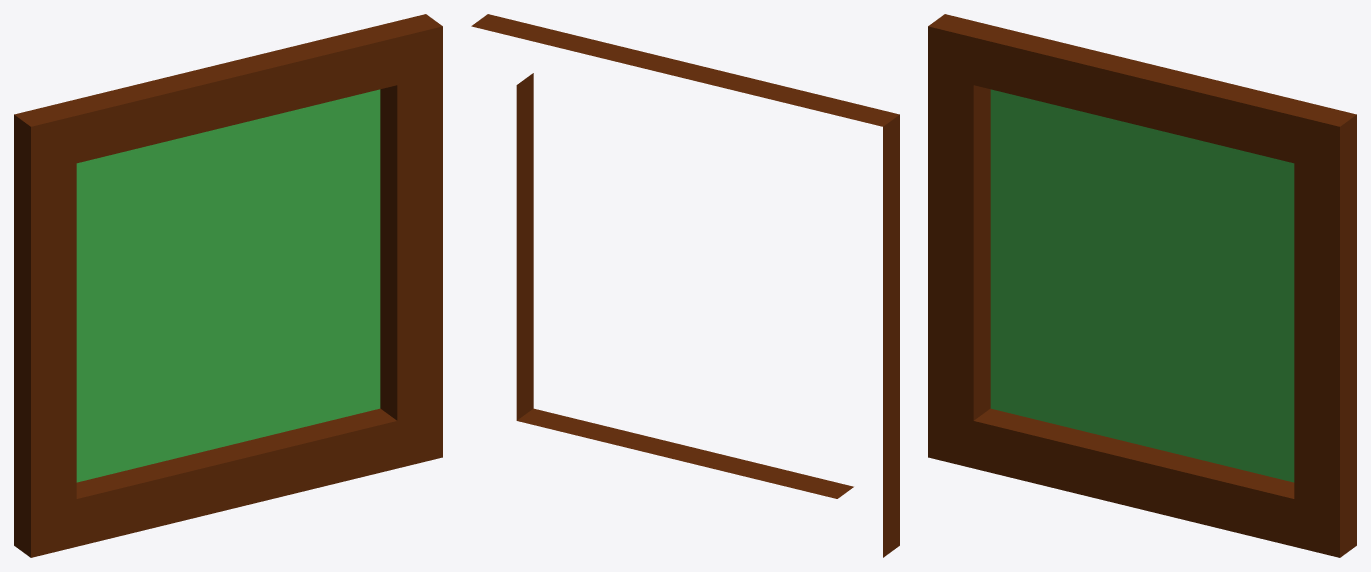
Rendered from Room13GreenBoxPainting.glb.
3 views of the same model, side by side, from view 1: azimuth 30°, elevation 25°; view 2: azimuth 150°, elevation 25°; view 3: azimuth 330°, elevation 25° (orthographic).
Parts seen in each view (by area): view 1: Canvas, Frame.003; view 2: Frame.003; view 3: Canvas, Frame.003.
Part boxes in pixels (x1=…): Canvas: x1=76, y1=89, x2=380, y2=482; Frame.003: x1=14, y1=14, x2=442, y2=557; Frame.003: x1=471, y1=14, x2=899, y2=557; Canvas: x1=990, y1=89, x2=1294, y2=482; Frame.003: x1=928, y1=14, x2=1356, y2=557.
Bounding box in the file's own units: 1.28 × 1.28 × 0.0912.
Materials: 2 (1 with a texture image).
